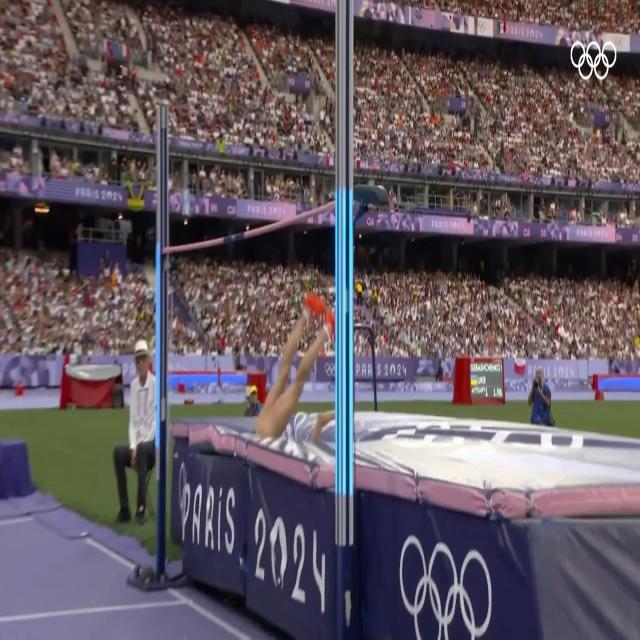land: (257, 292, 338, 439)
